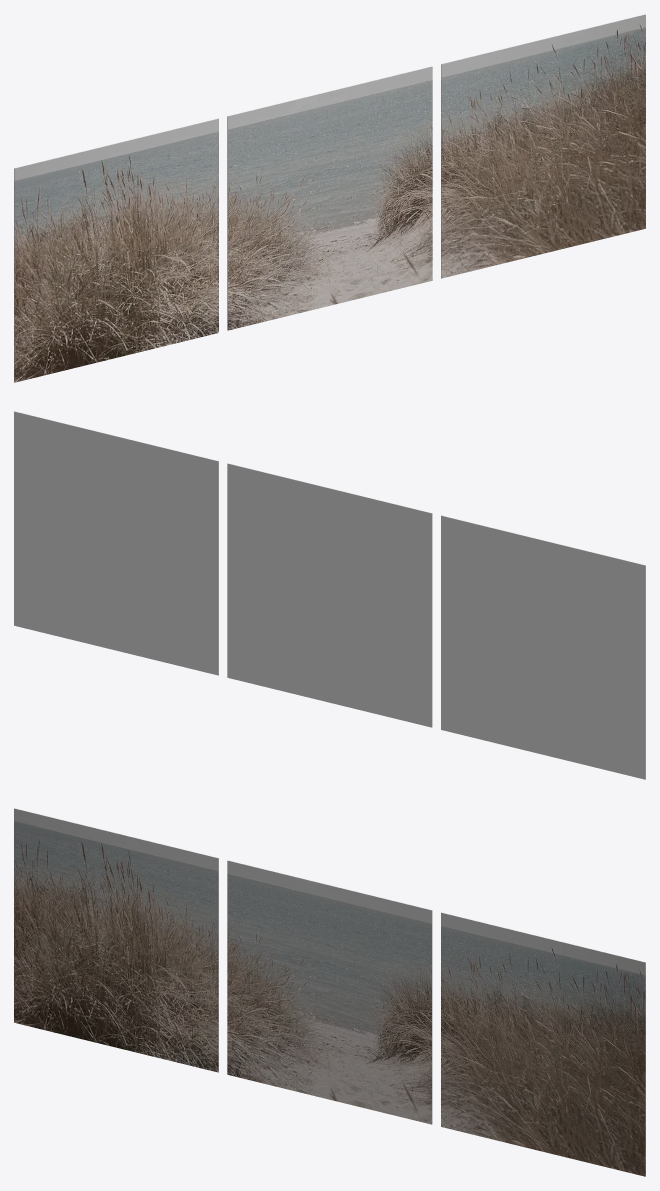
File: pjatteryd_obraz_40602018.glb
3 views of the same model, one above another, from view 1: azimuth 30°, elevation 25°; view 2: azimuth 150°, elevation 25°; view 3: azimuth 330°, elevation 25° (orthographic).
Visible parts, largest first — view 1: pjatteryd_obraz_40602018; view 2: pjatteryd_obraz_40602018; view 3: pjatteryd_obraz_40602018.
Part boxes in pixels (box(x1,y1,x2,y2)): pjatteryd_obraz_40602018: box(14, 14, 645, 382); pjatteryd_obraz_40602018: box(14, 411, 645, 779); pjatteryd_obraz_40602018: box(14, 808, 645, 1176).
Bounding box in the file's own units: 1.73 × 0.56 × 0.002.
2 materials, 1 textured.
